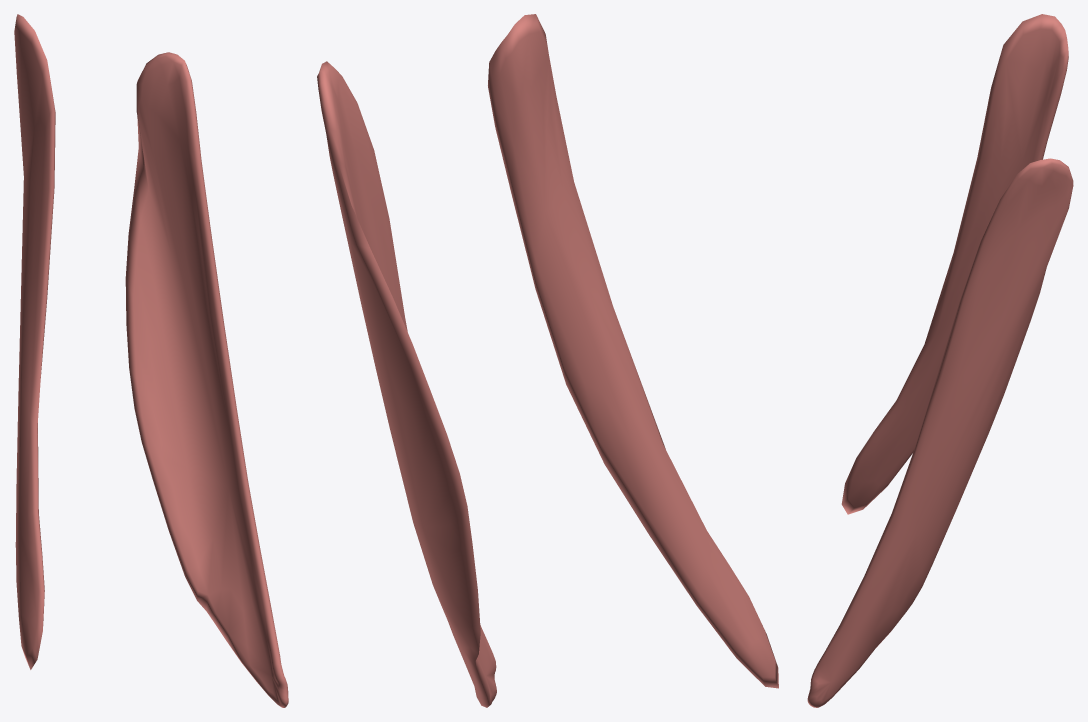
3 views of the same model, side by side, from view 1: azimuth 30°, elevation 25°; view 2: azimuth 150°, elevation 25°; view 3: azimuth 270°, elevation 25° (orthographic). The views are drawn at different scales.
Parts seen in each view (by area): view 1: ZA_285566a48c628c6d; view 2: ZA_285566a48c628c6d; view 3: ZA_285566a48c628c6d.
Boxes of the visible parts, bbox=[...] form: ZA_285566a48c628c6d: bbox=[14, 14, 288, 707]; ZA_285566a48c628c6d: bbox=[317, 14, 778, 707]; ZA_285566a48c628c6d: bbox=[807, 14, 1073, 707].
Bounding box in the file's own units: 0.013 × 0.0319 × 0.0123.
